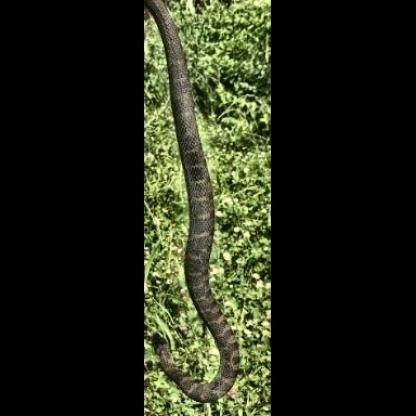Snake: (147, 14, 244, 404)
